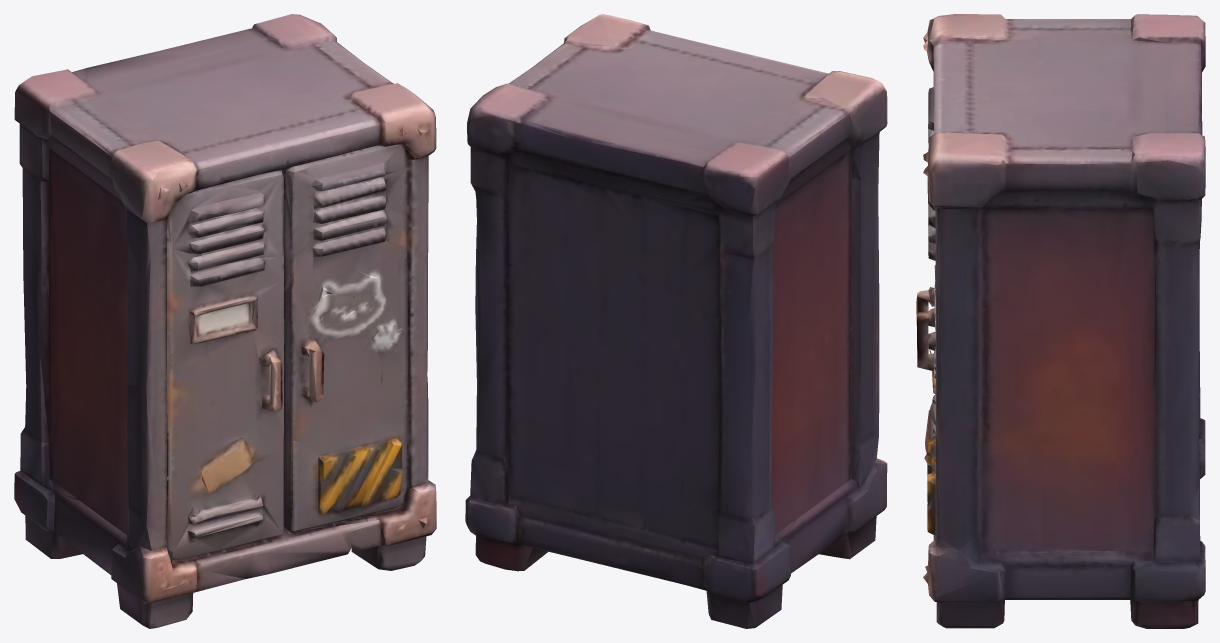
The model's file is cabinet06.glb.
3 views of the same model, side by side, from view 1: azimuth 30°, elevation 25°; view 2: azimuth 150°, elevation 25°; view 3: azimuth 270°, elevation 25° (orthographic). The views are drawn at different scales.
Size of the model in its own units: 0.1811 by 0.2695 by 0.1487.
1 material, 1 textured.
